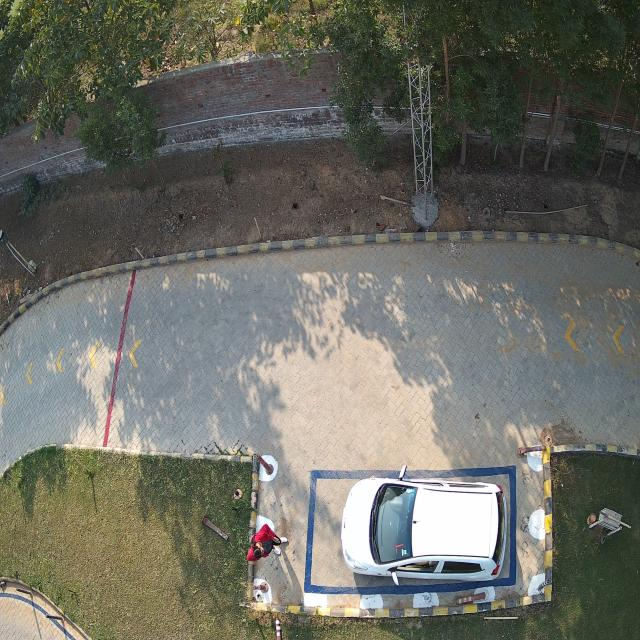car: (341, 465, 510, 585)
